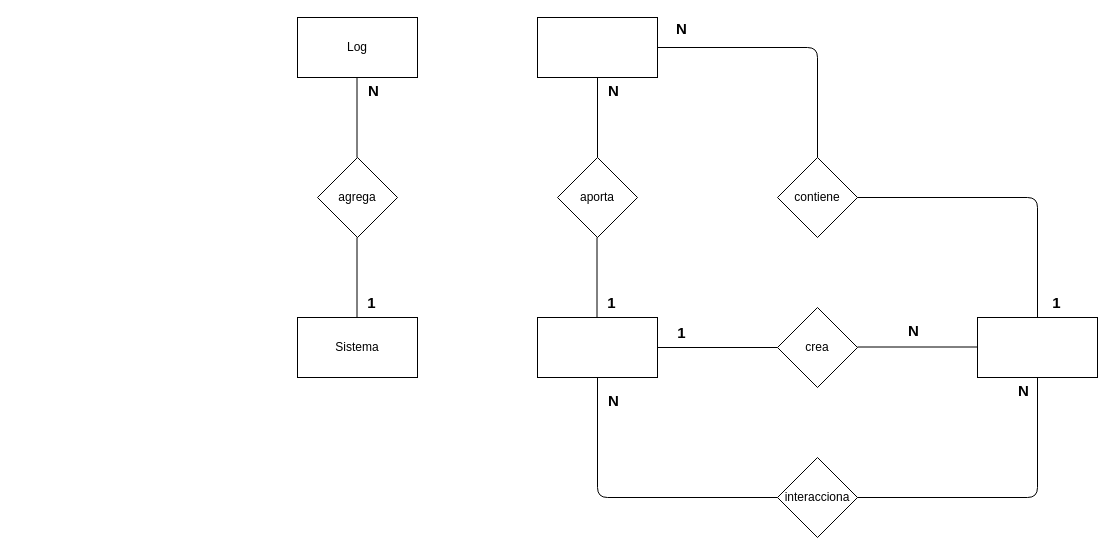
The diagram is 1115 pixels wide and 555 high, and some of its shapes have lost their labels. The shapes that lost their labels are listed below. From the top down, each one's box as (x1, y1, x2, y2) in pixels, then its label:
(536, 16, 658, 78): Comentario
(536, 316, 658, 378): Usuario
(976, 316, 1098, 378): Queja
